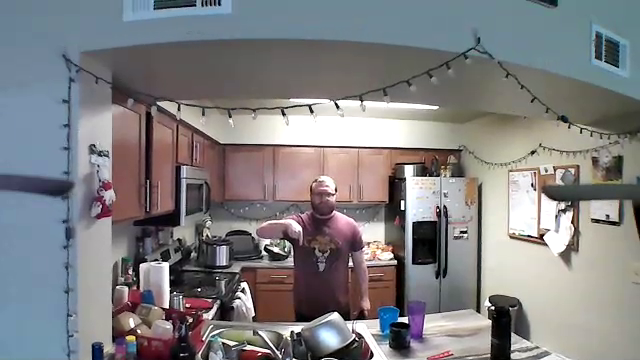down: (283, 213, 306, 248)
